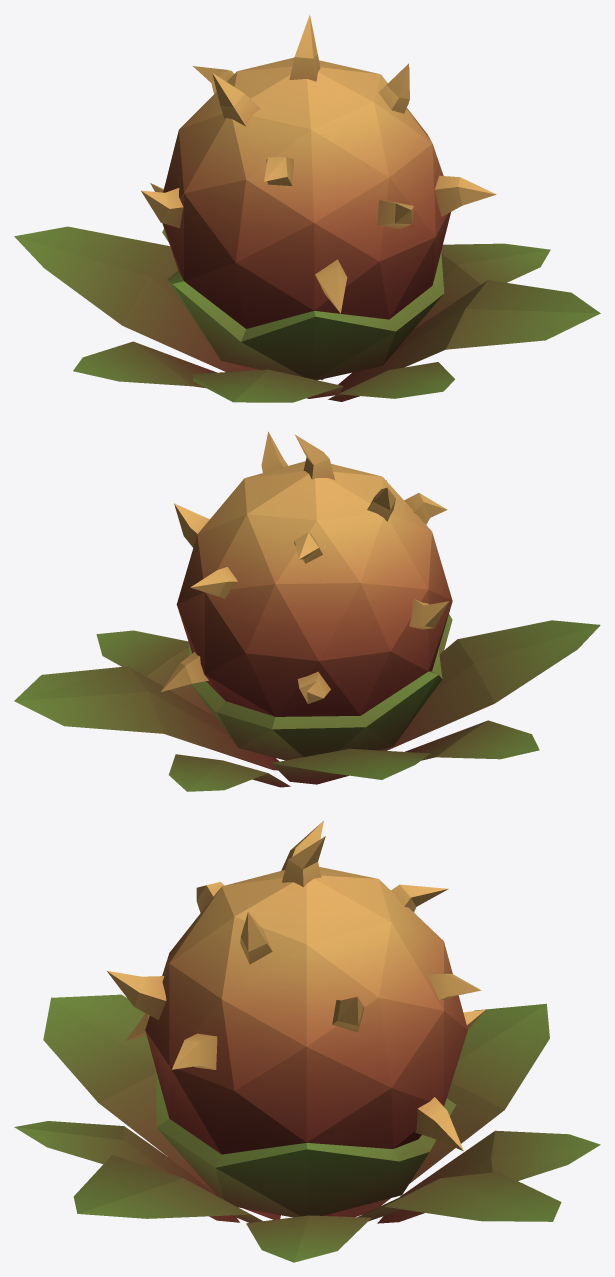
File: Dry_bulbous_plant.FBX
3 renders of one model, top to bottom at view 1: azimuth 30°, elevation 25°; view 2: azimuth 150°, elevation 25°; view 3: azimuth 270°, elevation 25°, orthographic. The views are drawn at different scales.
Visible parts, largest first — view 1: dry_bulbous_plant; view 2: dry_bulbous_plant; view 3: dry_bulbous_plant.
Part boxes in pixels (left/top/right/bottom): dry_bulbous_plant: left=14, top=14, right=600, bottom=402; dry_bulbous_plant: left=14, top=431, right=600, bottom=791; dry_bulbous_plant: left=14, top=820, right=600, bottom=1262.
Size of the model in its own units: 6.36 by 4.73 by 6.21.
